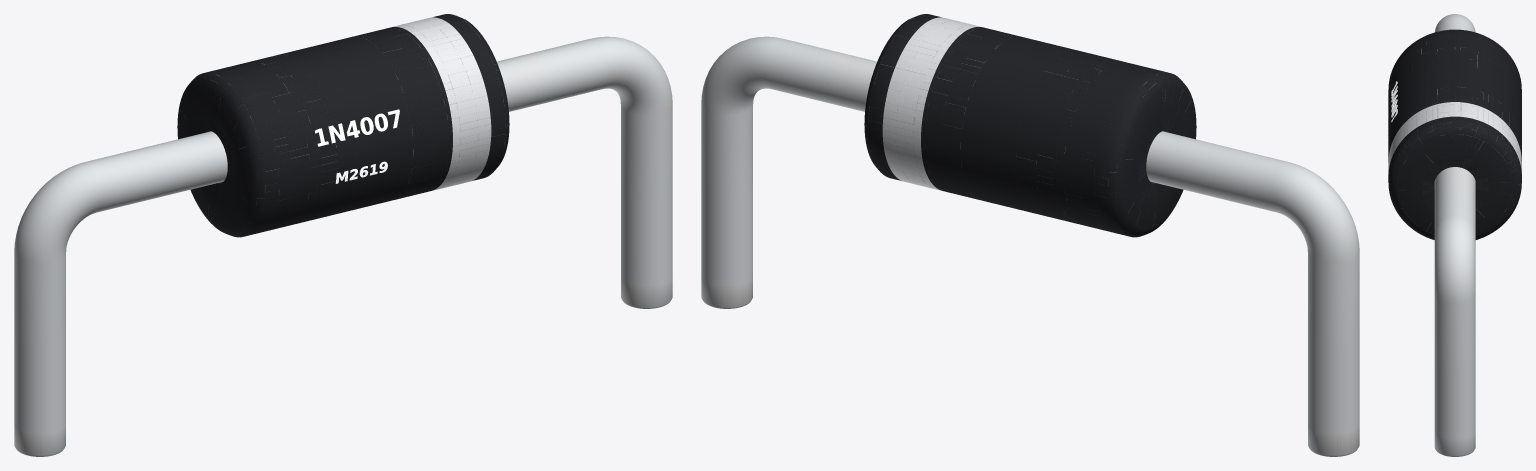
File: 04_Diodo_1N4007_Desarme_Despiece_Materiales.glb
3 views of the same model, side by side, from view 1: azimuth 30°, elevation 25°; view 2: azimuth 150°, elevation 25°; view 3: azimuth 270°, elevation 25° (orthographic). The views are drawn at different scales.
Visible parts, largest first — view 1: 06_Capsula_Epoxi_DO41_Frontal, 01A_Terminal_Anodo_Izq_Cobre_Estanado, 01B_Terminal_Catodo_Der_Cobre_Estanado, 05_Capsula_Epoxi_DO41_Posterior, 07_Marcado_Laser_1N4007; view 2: 05_Capsula_Epoxi_DO41_Posterior, 01A_Terminal_Anodo_Izq_Cobre_Estanado, 01B_Terminal_Catodo_Der_Cobre_Estanado, 06_Capsula_Epoxi_DO41_Frontal; view 3: 01B_Terminal_Catodo_Der_Cobre_Estanado, 05_Capsula_Epoxi_DO41_Posterior, 06_Capsula_Epoxi_DO41_Frontal, 01A_Terminal_Anodo_Izq_Cobre_Estanado, 07_Marcado_Laser_1N4007.
Boxes of the visible parts, x1,y1,x2,y2 form: 06_Capsula_Epoxi_DO41_Frontal: [214, 20, 509, 237]; 01A_Terminal_Anodo_Izq_Cobre_Estanado: [14, 131, 227, 456]; 01B_Terminal_Catodo_Der_Cobre_Estanado: [497, 36, 672, 308]; 05_Capsula_Epoxi_DO41_Posterior: [177, 14, 468, 228]; 07_Marcado_Laser_1N4007: [315, 109, 399, 183]; 05_Capsula_Epoxi_DO41_Posterior: [864, 20, 1159, 237]; 01A_Terminal_Anodo_Izq_Cobre_Estanado: [1146, 131, 1359, 456]; 01B_Terminal_Catodo_Der_Cobre_Estanado: [701, 36, 876, 308]; 06_Capsula_Epoxi_DO41_Frontal: [905, 14, 1196, 228]; 01B_Terminal_Catodo_Der_Cobre_Estanado: [1434, 167, 1475, 456]; 05_Capsula_Epoxi_DO41_Posterior: [1455, 29, 1521, 239]; 06_Capsula_Epoxi_DO41_Frontal: [1388, 29, 1455, 239]; 01A_Terminal_Anodo_Izq_Cobre_Estanado: [1434, 14, 1475, 32]; 07_Marcado_Laser_1N4007: [1388, 81, 1397, 142].
Size of what is drawn, in the model's own units: 11.6 by 5.5 by 2.61.
22 materials, 16 textured.
